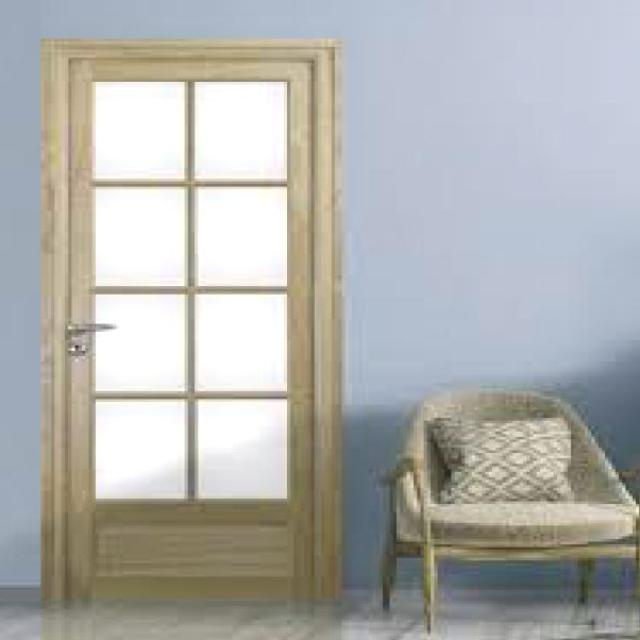door: (41, 38, 338, 606)
